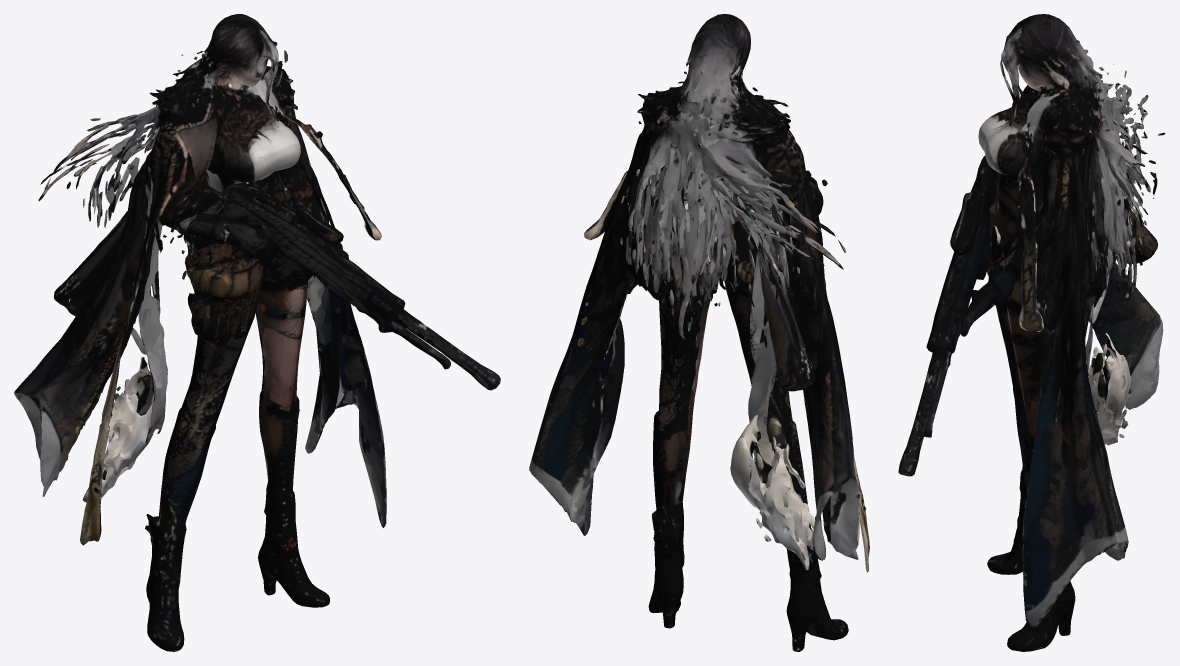
Rendered from sniper.glb.
The picture shows the model from 3 angles, left to right: view 1: azimuth 30°, elevation 25°; view 2: azimuth 150°, elevation 25°; view 3: azimuth 270°, elevation 25°; orthographic projection. The views are drawn at different scales.
Parts seen in each view (by area): view 1: textured.obj; view 2: textured.obj; view 3: textured.obj.
Boxes of the visible parts, x1,y1,x2,y2 form: textured.obj: [14, 14, 500, 651]; textured.obj: [529, 14, 869, 651]; textured.obj: [898, 14, 1165, 651].
Size of the model in its own units: 1.23 by 1.9 by 0.7687.
1 material, 1 textured.
